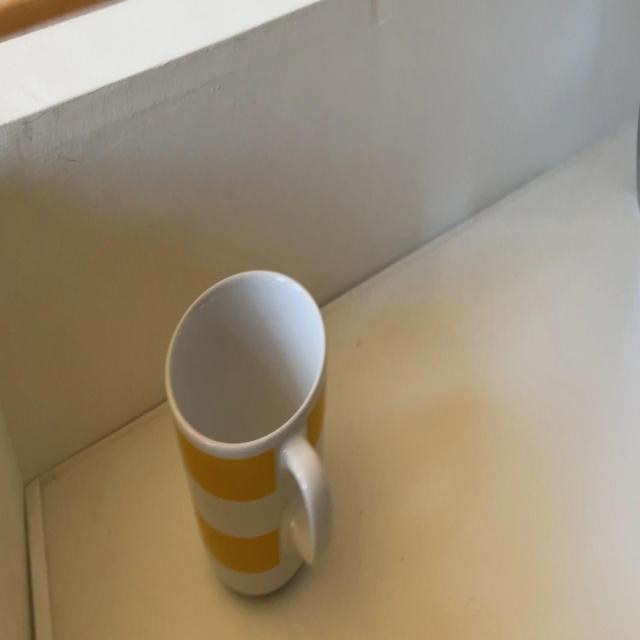cup: (161, 266, 339, 608)
